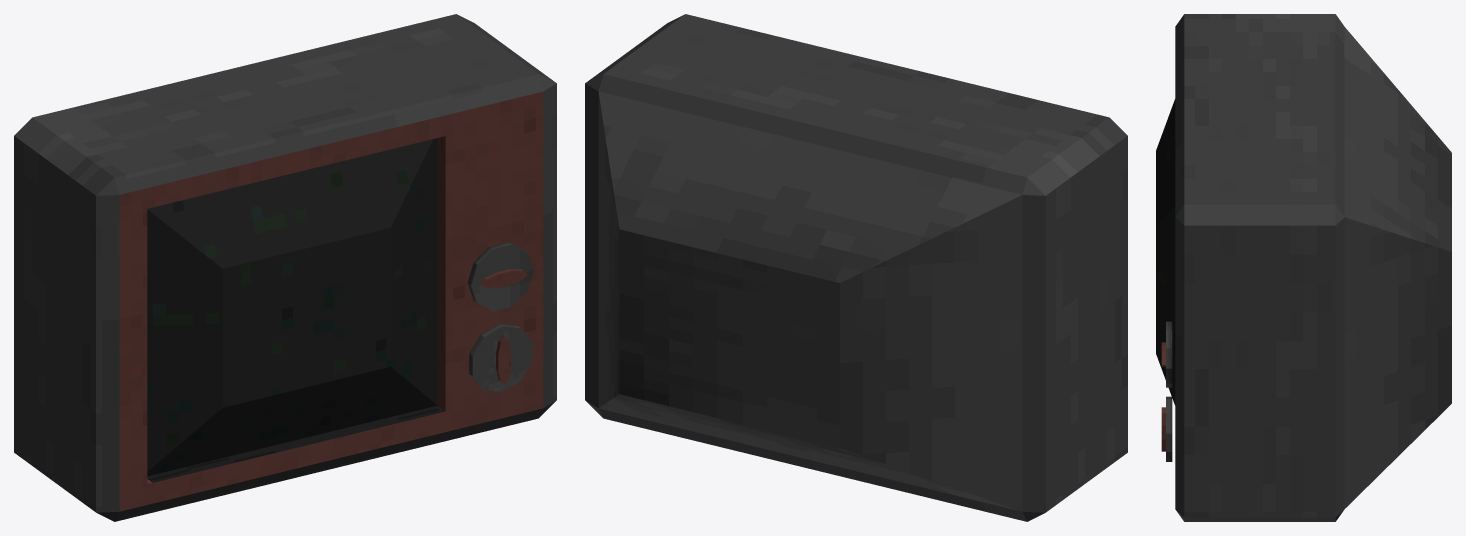
The picture shows the model from 3 angles, left to right: view 1: azimuth 30°, elevation 25°; view 2: azimuth 150°, elevation 25°; view 3: azimuth 270°, elevation 25°; orthographic projection. The views are drawn at different scales.
Visible parts, largest first — view 1: Cylinder.001; view 2: Cylinder.001; view 3: Cylinder.001.
Boxes of the visible parts, box(x1,y1,x2,y2) form: Cylinder.001: box(14, 14, 556, 521); Cylinder.001: box(585, 14, 1127, 521); Cylinder.001: box(1156, 14, 1451, 521).
Size of the model in its own units: 22.88 by 16.34 by 13.8.
Materials: 1 (1 with a texture image).
